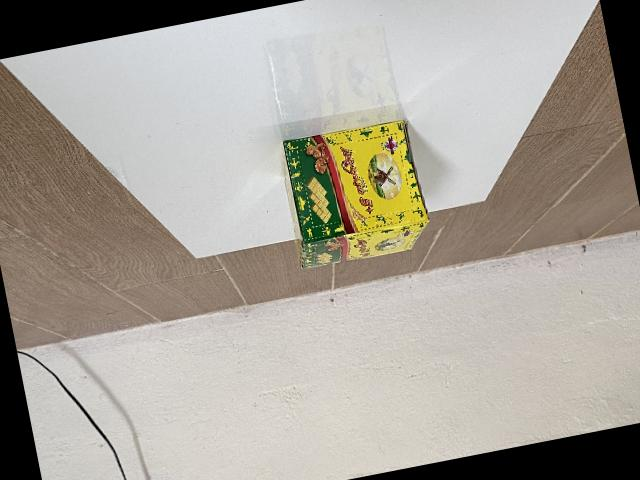luong_kho: (281, 119, 428, 268)
